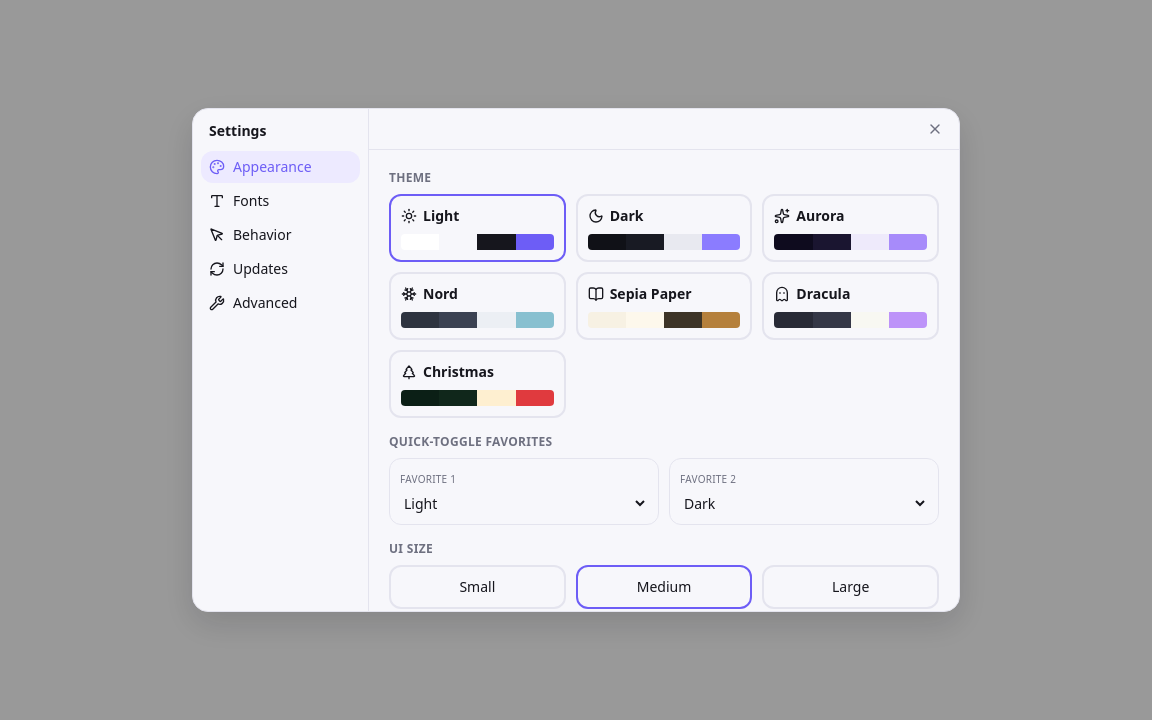
SettingsModal › switching category swaps the pane
Step 1. Click the button "Behavior" → (280, 235), box [201,219,360,251]
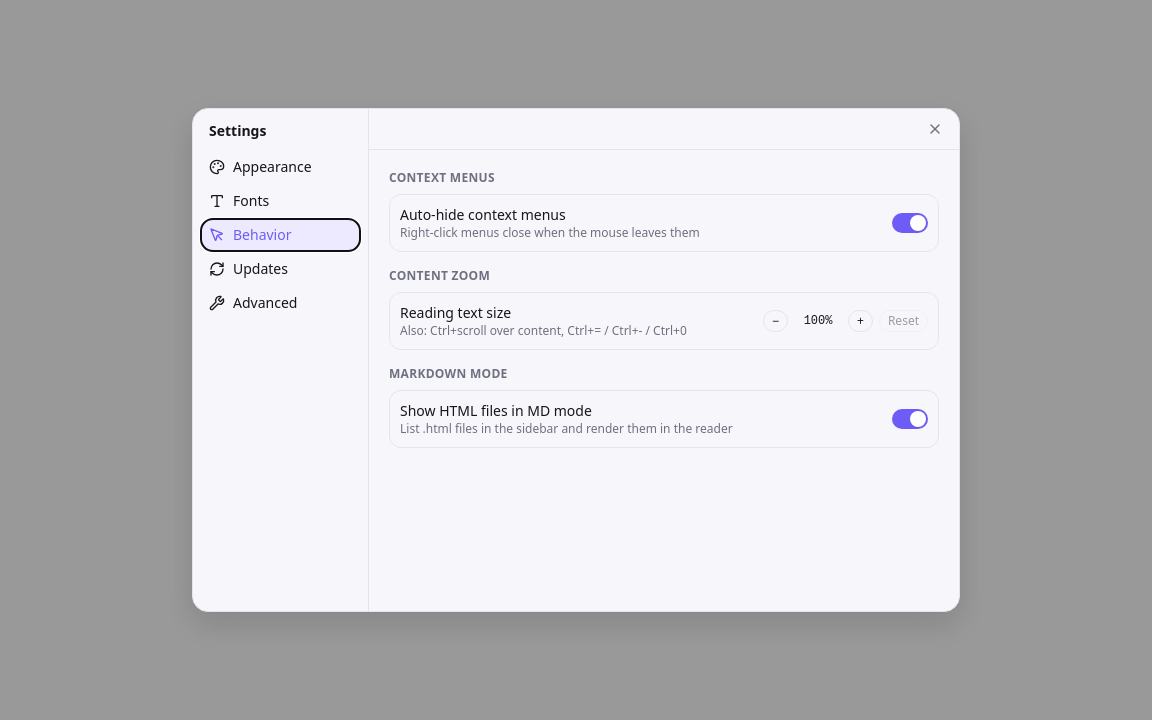
Check: the switch named "Auto-hide context menus" is shown, box [892,213,928,233]
